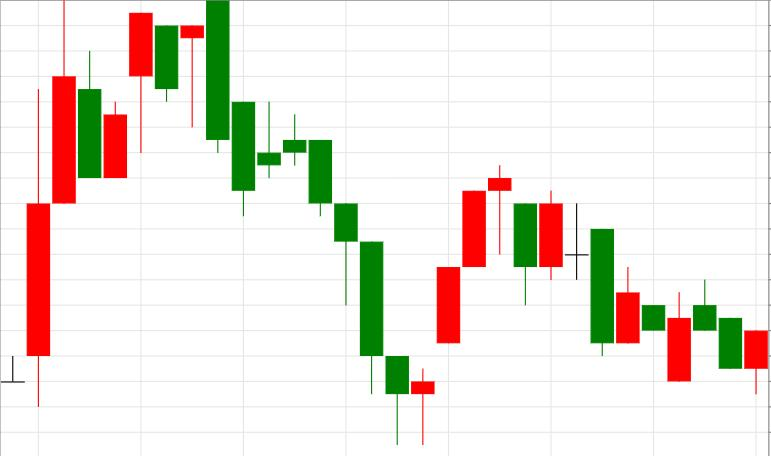evening_star_fall: (411, 166, 538, 446)
hammer_rise: (206, 1, 409, 444)
